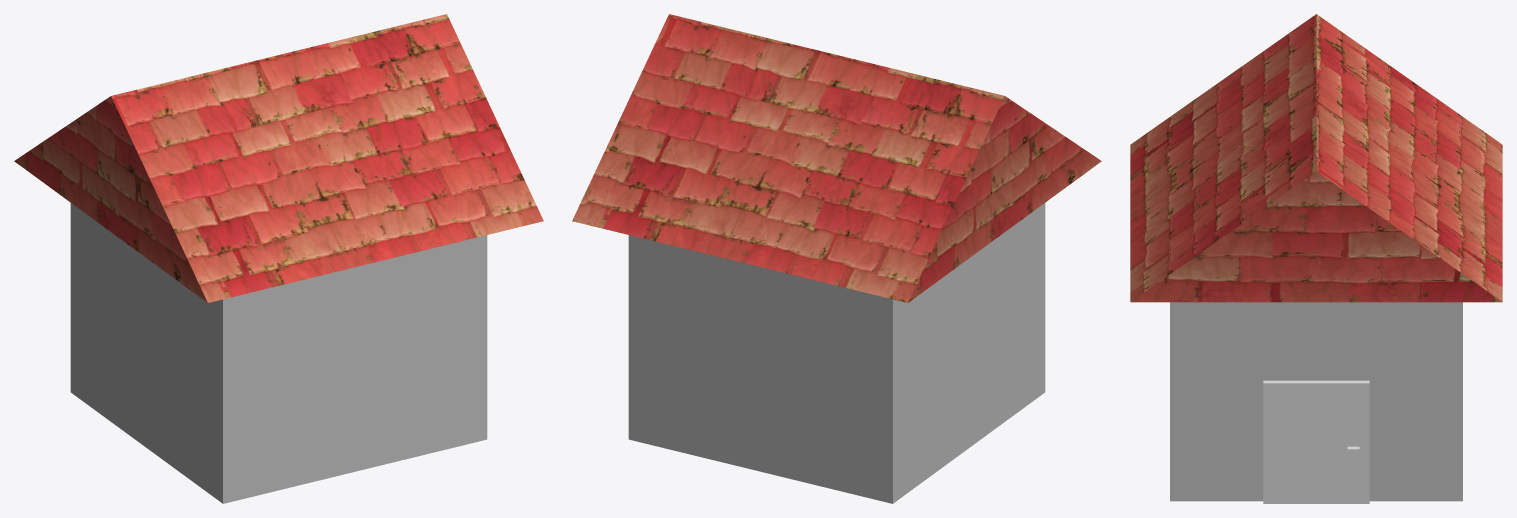
File: HouseForReal.fbx
3 views of the same model, side by side, from view 1: azimuth 30°, elevation 25°; view 2: azimuth 150°, elevation 25°; view 3: azimuth 270°, elevation 25° (orthographic). The views are drawn at different scales.
Parts seen in each view (by area): view 1: Roof, Exterior; view 2: Roof, Exterior; view 3: Roof, Exterior, Door.
Part boxes in pixels (box(x1,y1,x2,y2)): Roof: box(14, 14, 543, 302); Exterior: box(70, 203, 487, 503); Roof: box(572, 14, 1101, 302); Exterior: box(628, 203, 1045, 503); Roof: box(1130, 14, 1502, 302); Exterior: box(1170, 302, 1462, 501); Door: box(1263, 380, 1369, 503).
Bounding box in the file's own units: 280 × 287 × 280.
